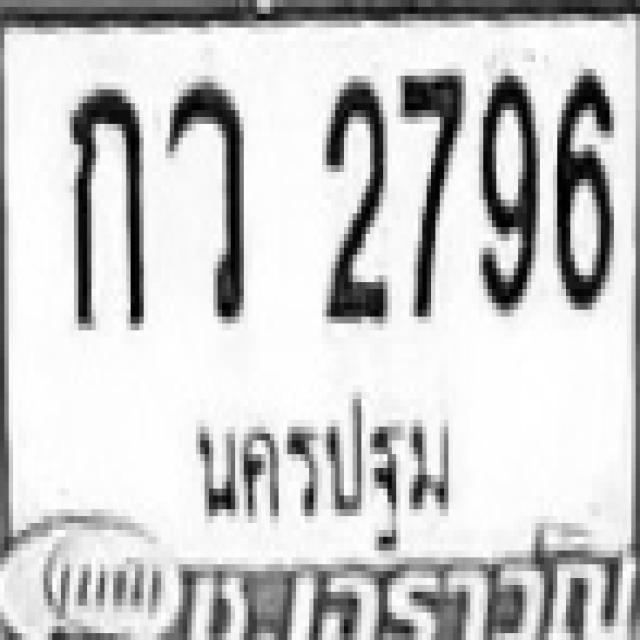10GorGai: (65, 79, 144, 327)
2: (318, 76, 389, 324)
46WorWaen: (161, 76, 246, 328)
6: (553, 62, 615, 315)
7: (396, 65, 464, 323)
9: (475, 69, 541, 319)
NakhonPathom: (175, 372, 465, 566)
